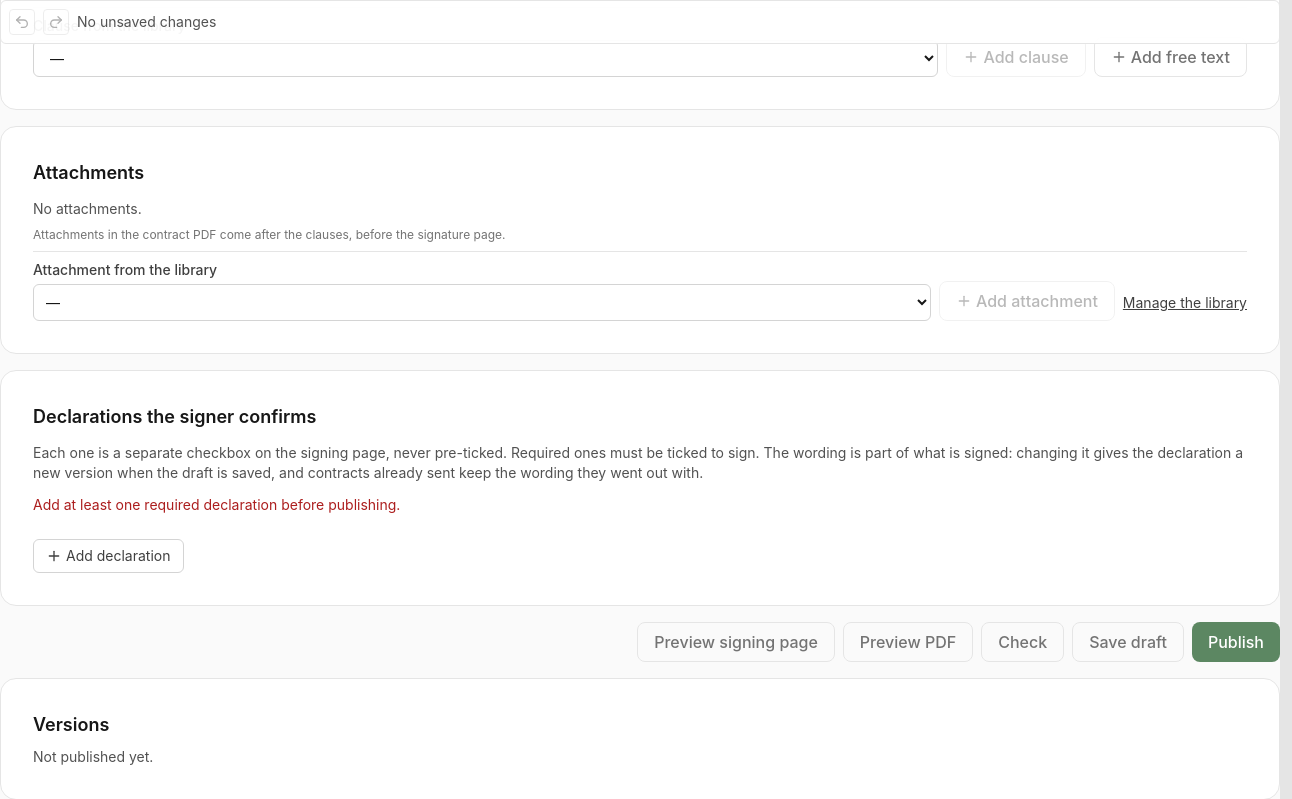
Test: marks where the dry run broke the pages between clauses
(page scrolled)
Click the button "Check": (1023, 642) [981,622,1064,662]
(page scrolled)
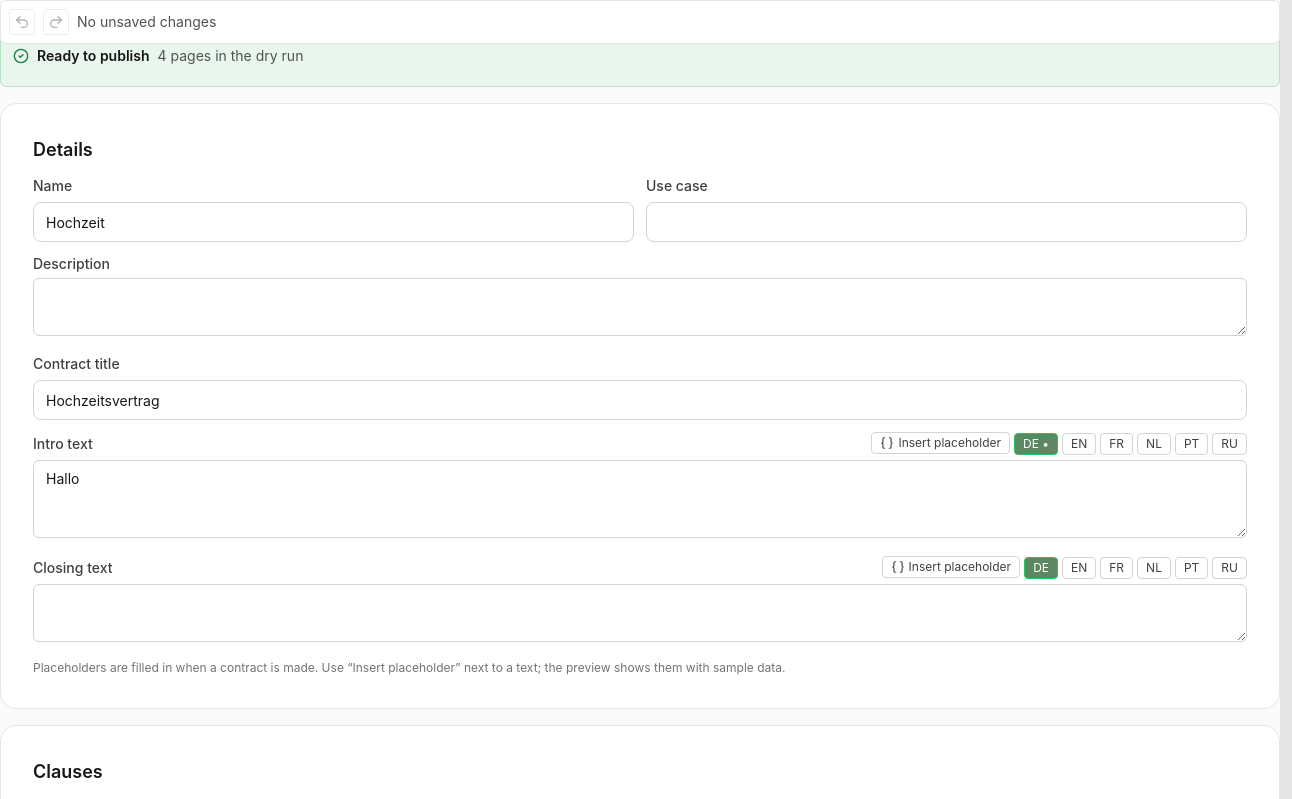
In the field labelled "Contract title": (640, 400) [33,380,1247,420], type "X"
(page scrolled)
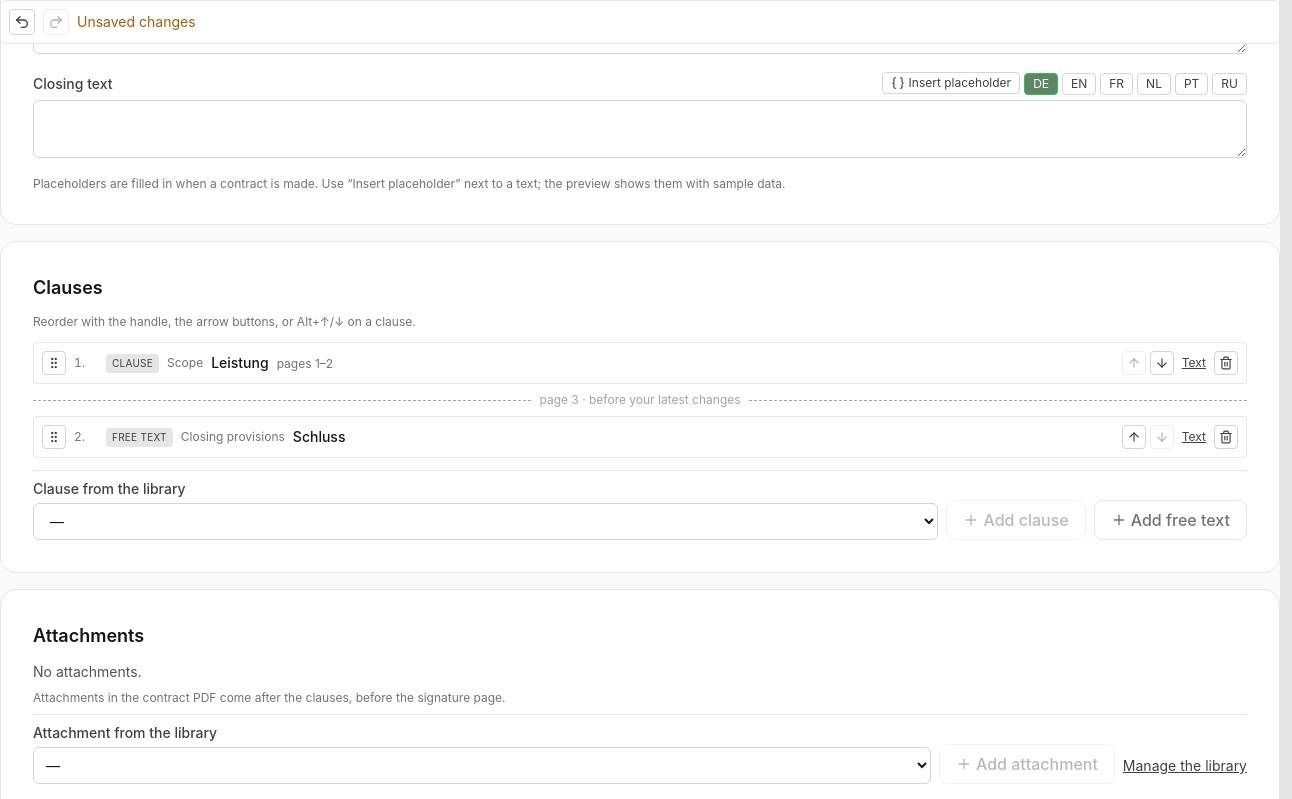
Check: the text "page 3 · before your latest changes" is shown, box [539,392,740,408]
